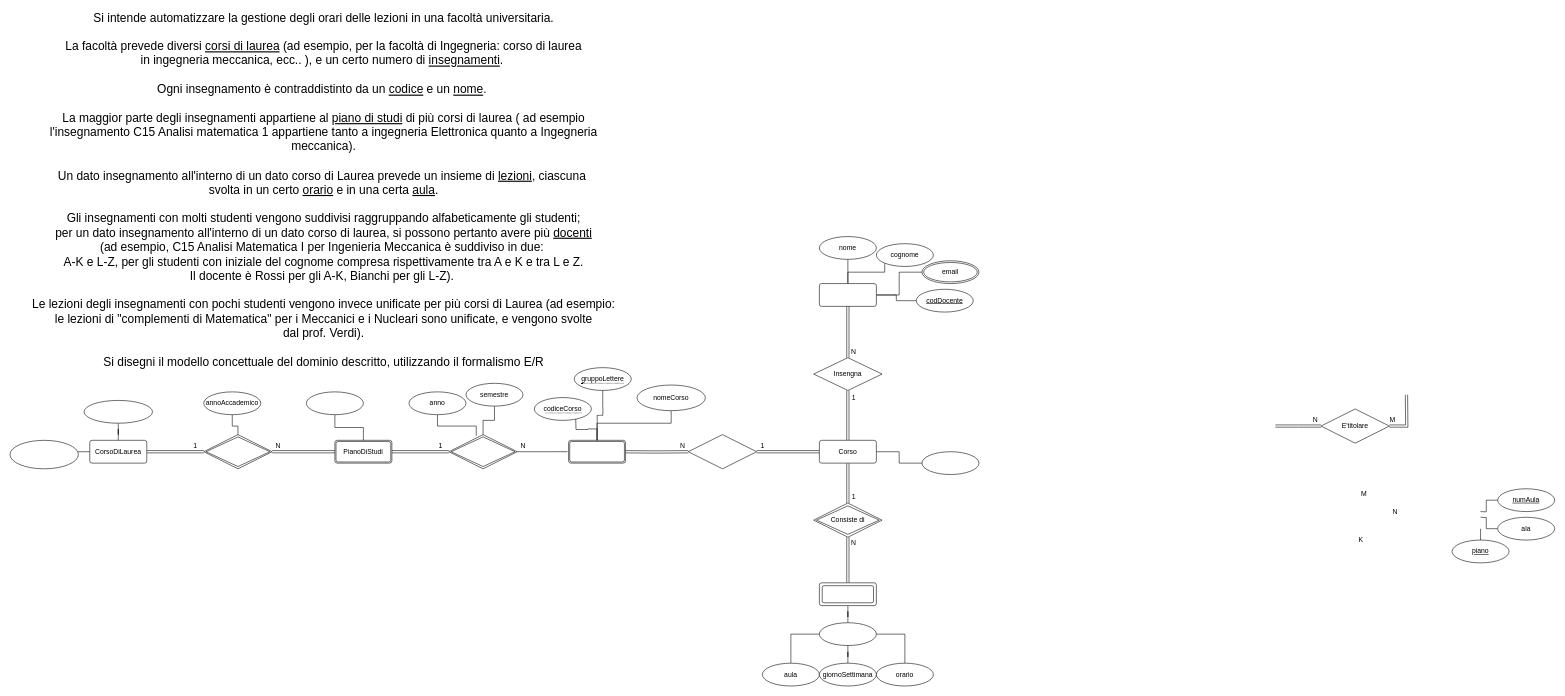
Some shapes in this 1565 by 696 pixel diagram are drawn without their labels. Each missing label, with the centre of its shape:
"codCorso" belongs at point (950, 463).
"codCorsoDiLaurea" belongs at point (118, 411).
"codPianoDiStudi" belongs at point (334, 403).
"Corrisponde" belongs at point (722, 451).
"Docente" belongs at point (847, 294).
"giorno" belongs at point (847, 634).
"Insegnamento" belongs at point (597, 451).
"Lezione" belongs at point (847, 594).
"nomeCorsoDiLaurea" belongs at point (43, 454).
"Possiede" belongs at point (482, 451).
"Prevede" belongs at point (237, 451).
